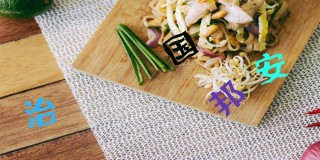国: (160, 30, 199, 66)
安: (254, 53, 288, 84)
治: (24, 96, 56, 129)
邦: (209, 80, 245, 117)
